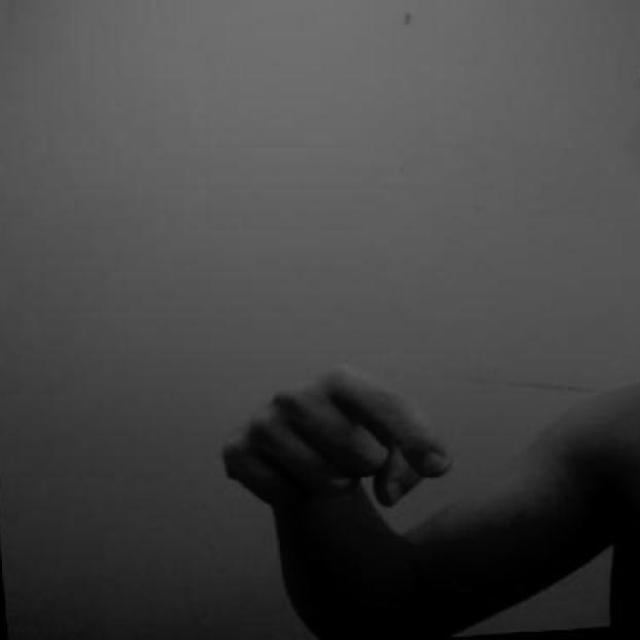Z: (216, 358, 478, 527)
